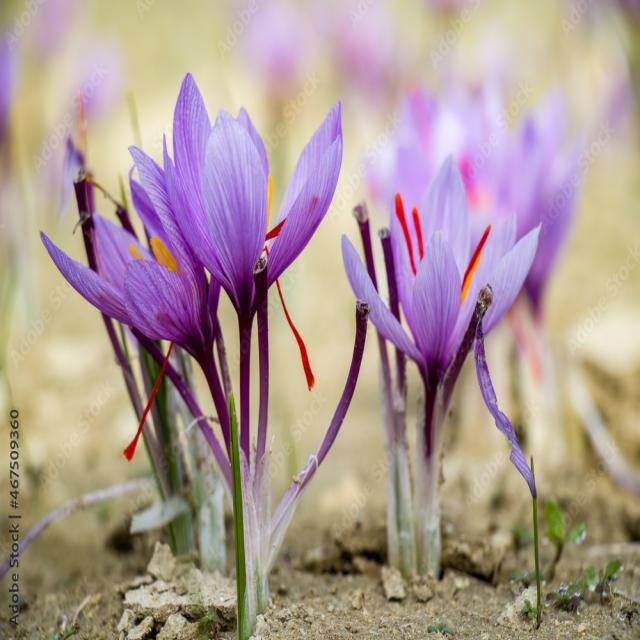saffron open: (342, 157, 539, 572), (170, 73, 269, 455), (125, 146, 230, 450), (268, 101, 342, 285)
